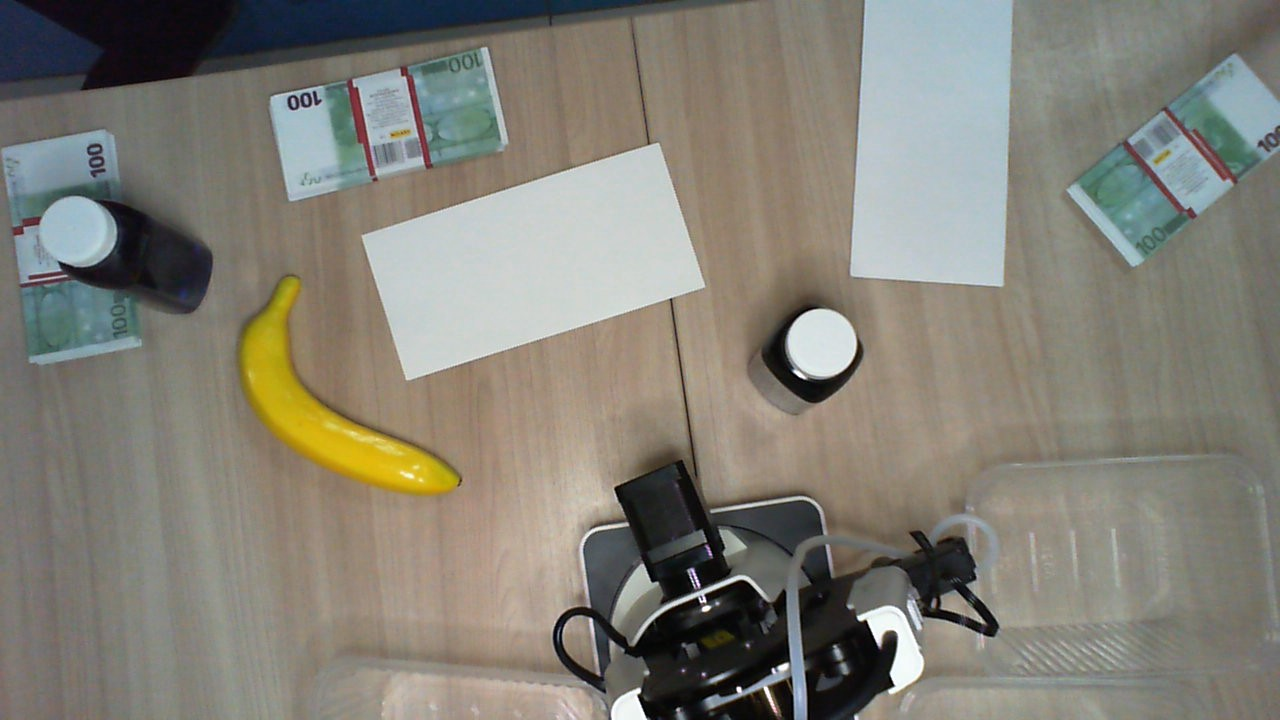banana: (236, 275, 462, 497)
bottle: (38, 188, 133, 281), (765, 302, 857, 394)
convert: (361, 140, 707, 382), (850, 1, 1012, 285)
money: (1068, 50, 1279, 263), (268, 43, 511, 208), (3, 130, 140, 366)
